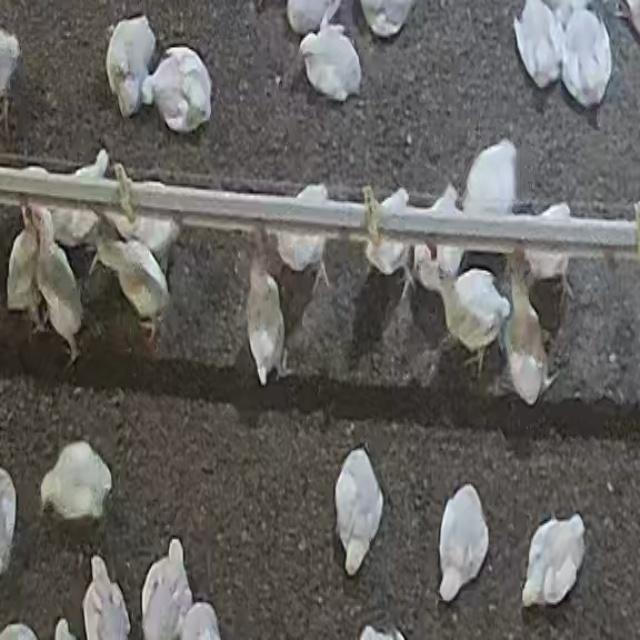chicken: (431, 260, 512, 378), (90, 234, 172, 342), (238, 244, 298, 390), (33, 212, 84, 368), (331, 443, 388, 581), (436, 478, 492, 606), (143, 42, 217, 136), (518, 511, 586, 612), (273, 182, 336, 288), (38, 437, 112, 521), (296, 24, 368, 104), (103, 13, 157, 119), (140, 535, 193, 640)
